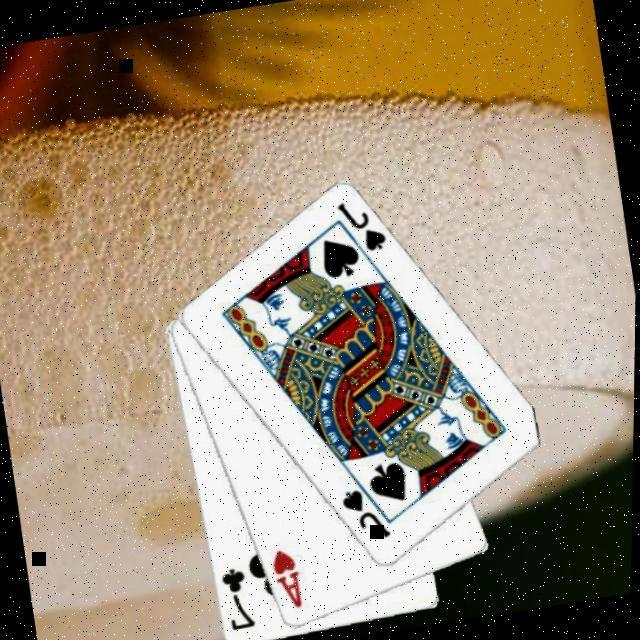7C: (218, 565, 260, 637)
AH: (266, 546, 309, 616)
JS: (332, 196, 392, 262), (337, 484, 396, 549)
